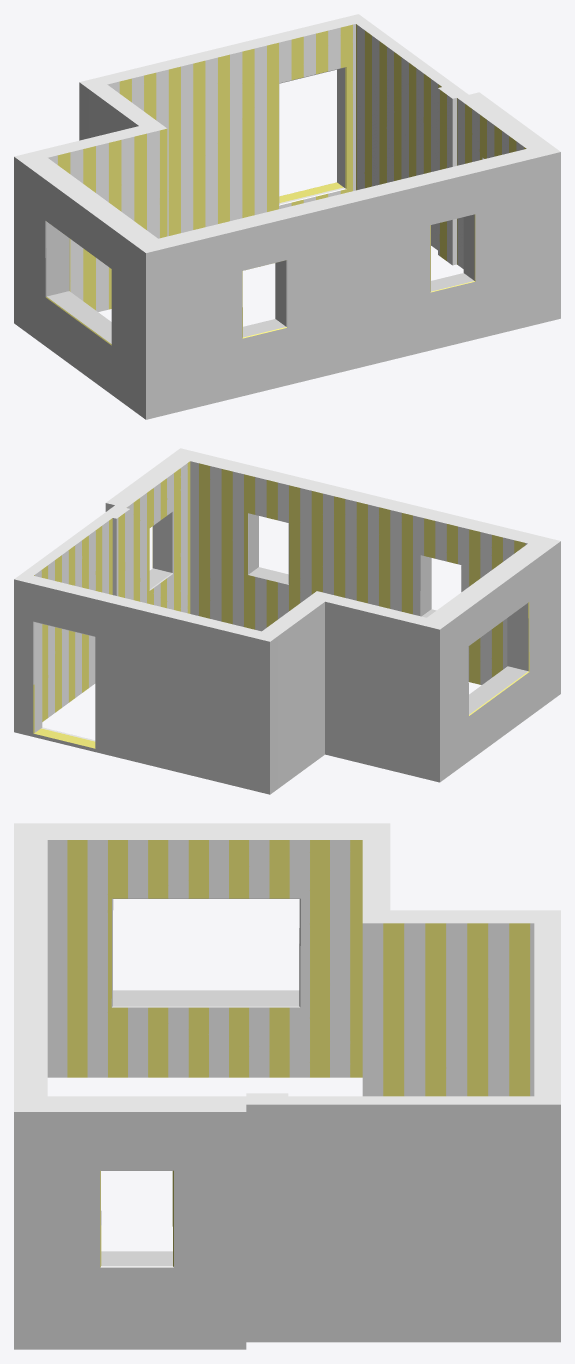
Rendered from Walls.fbx.
The picture shows the model from 3 angles, top to bottom: view 1: azimuth 30°, elevation 25°; view 2: azimuth 150°, elevation 25°; view 3: azimuth 270°, elevation 25°; orthographic projection. The views are drawn at different scales.
Visible parts, largest first — view 1: Walls; view 2: Walls; view 3: Walls.
Boxes of the visible parts, left/top/right/bottom form: Walls: left=14, top=14, right=560, bottom=419; Walls: left=14, top=448, right=560, bottom=794; Walls: left=14, top=823, right=560, bottom=1349.
Bounding box in the file's own units: 521 × 200 × 417.
